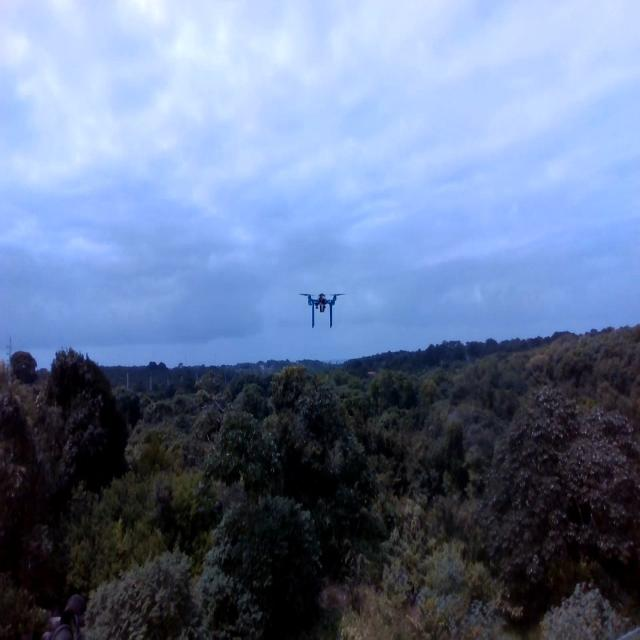-uav-: (295, 288, 351, 336)
